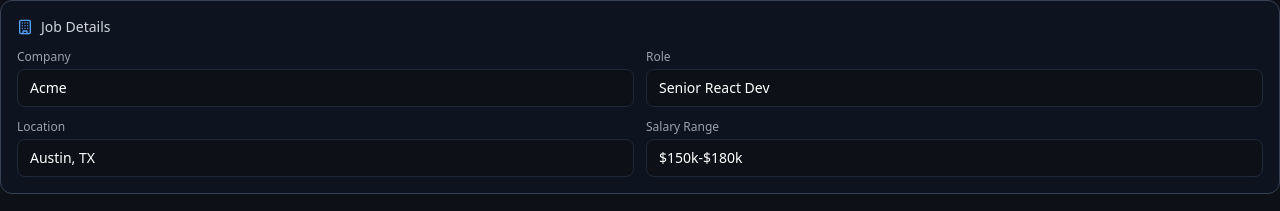
Test case: JobDetailsCard › restores the stored value when the save fails
Replace the text in the field labelled "Company" with "Typo Inc" at (326, 88), box [17,69,634,107]
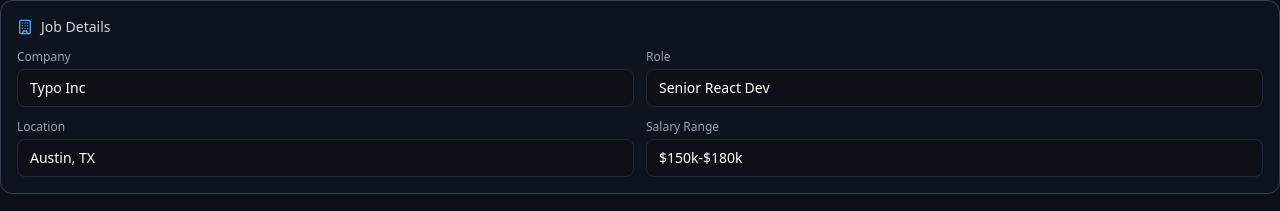
Leave the field labelled "Company", box [17,69,634,107]
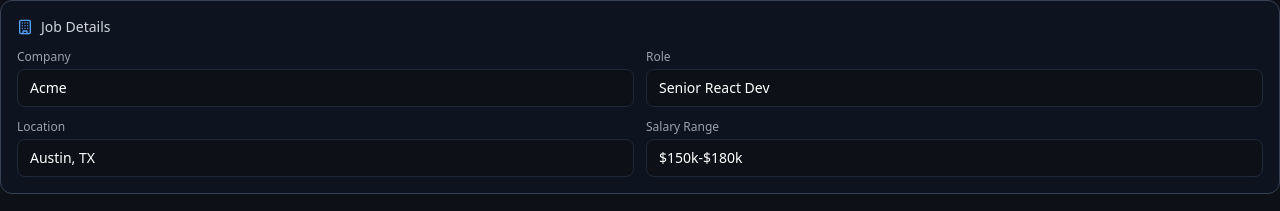
Now the field labelled "Company" holds "Acme", box [17,69,634,107]
